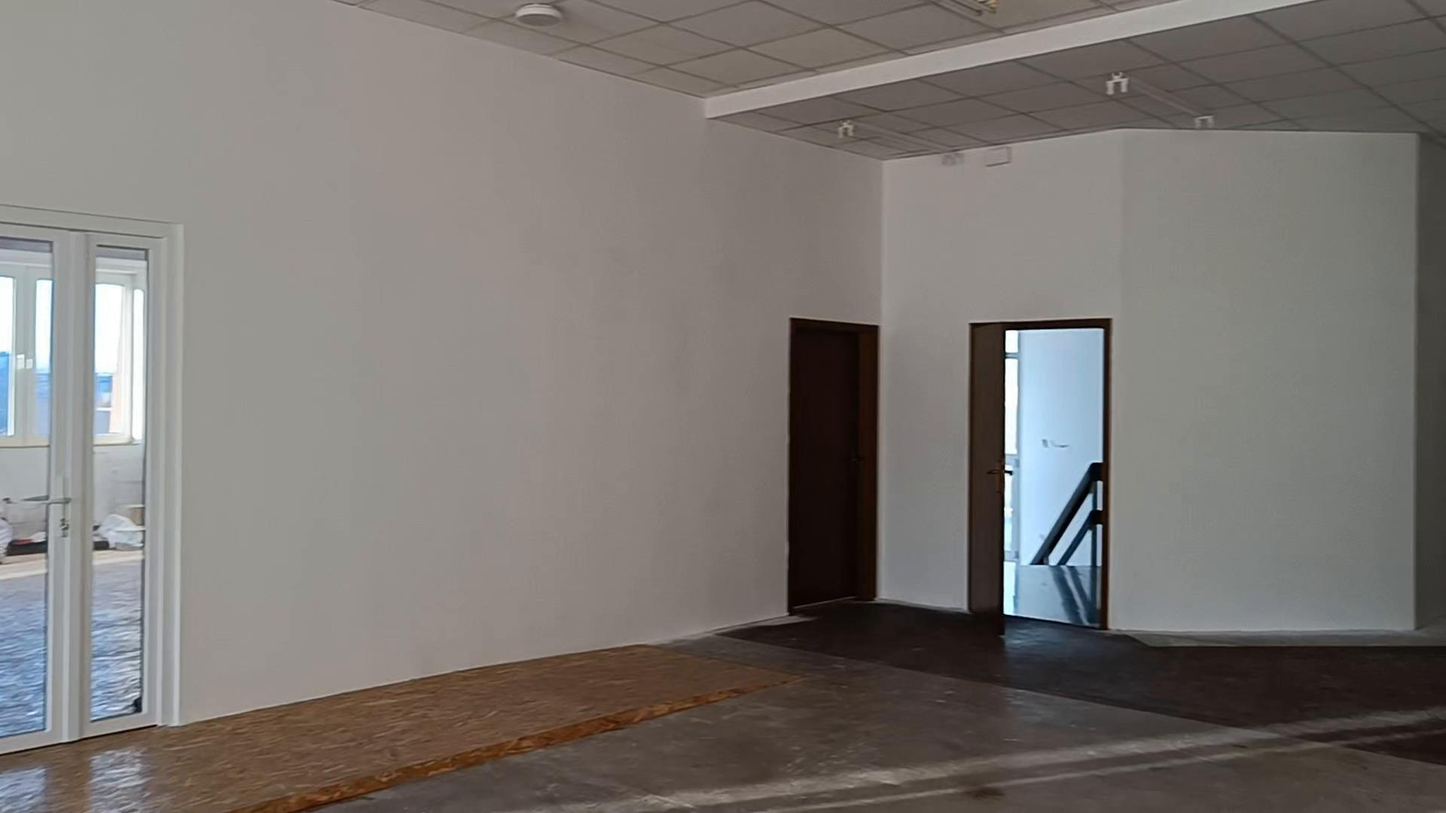ceiling: (337, 0, 1445, 157)
floor: (0, 604, 1445, 812)
wall: (0, 0, 1445, 716)
